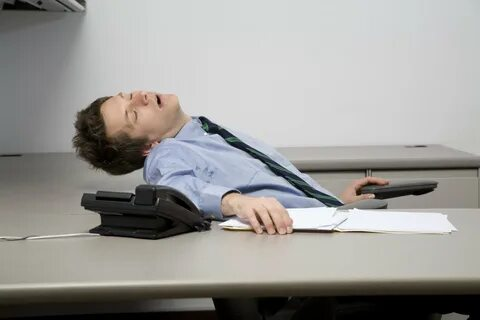sleep: (71, 90, 392, 235)
